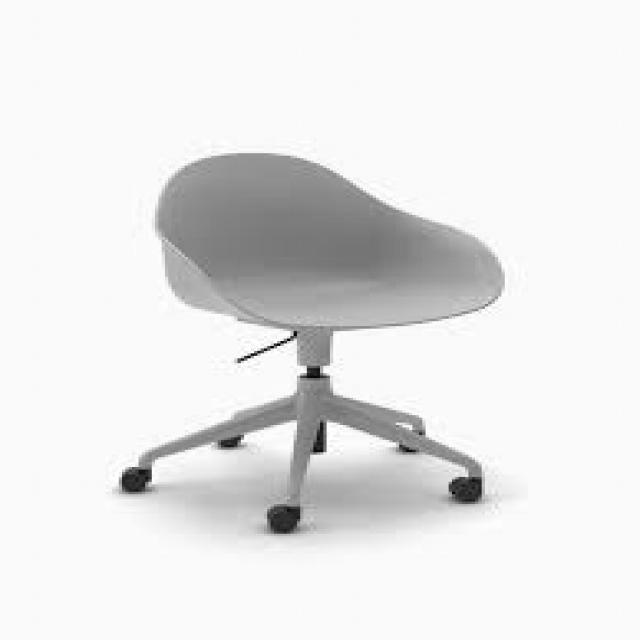chair: (117, 150, 507, 536)
